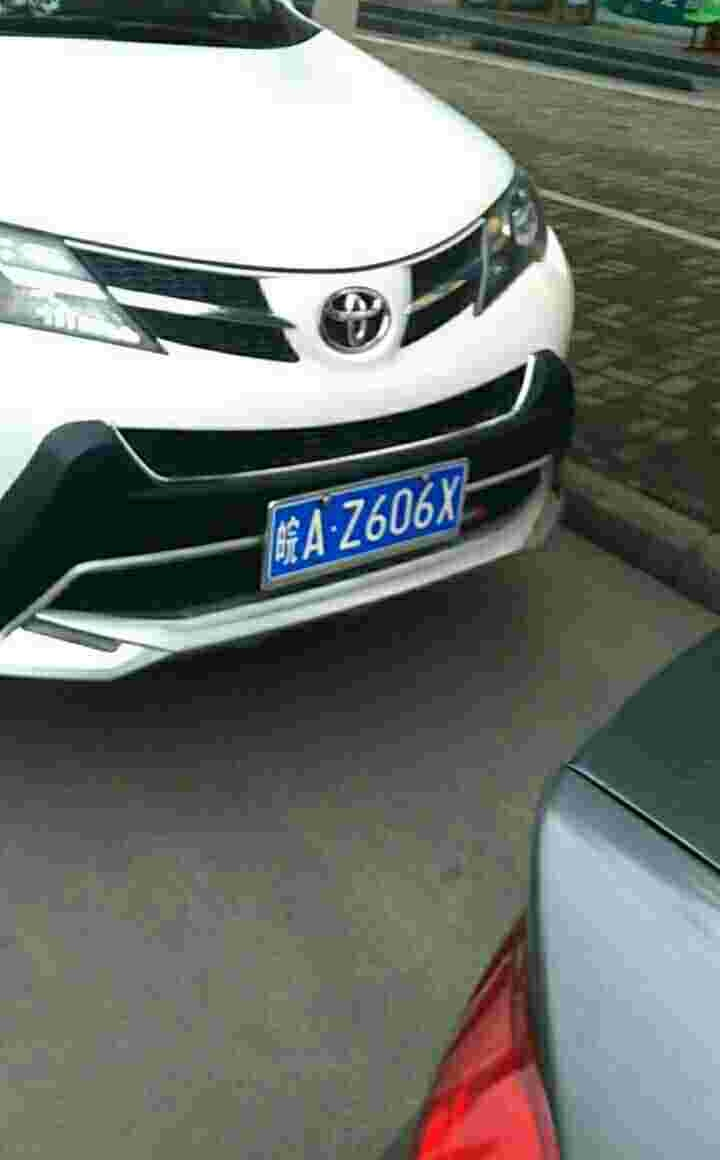license_plate: (265, 465, 471, 585)
